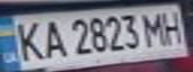2: (66, 15, 90, 56), (103, 12, 127, 52)
3: (121, 11, 145, 51)
8: (87, 14, 109, 54)
A: (36, 17, 69, 61)
H: (157, 8, 187, 45)
K: (6, 18, 48, 62)
M: (139, 9, 169, 47)
